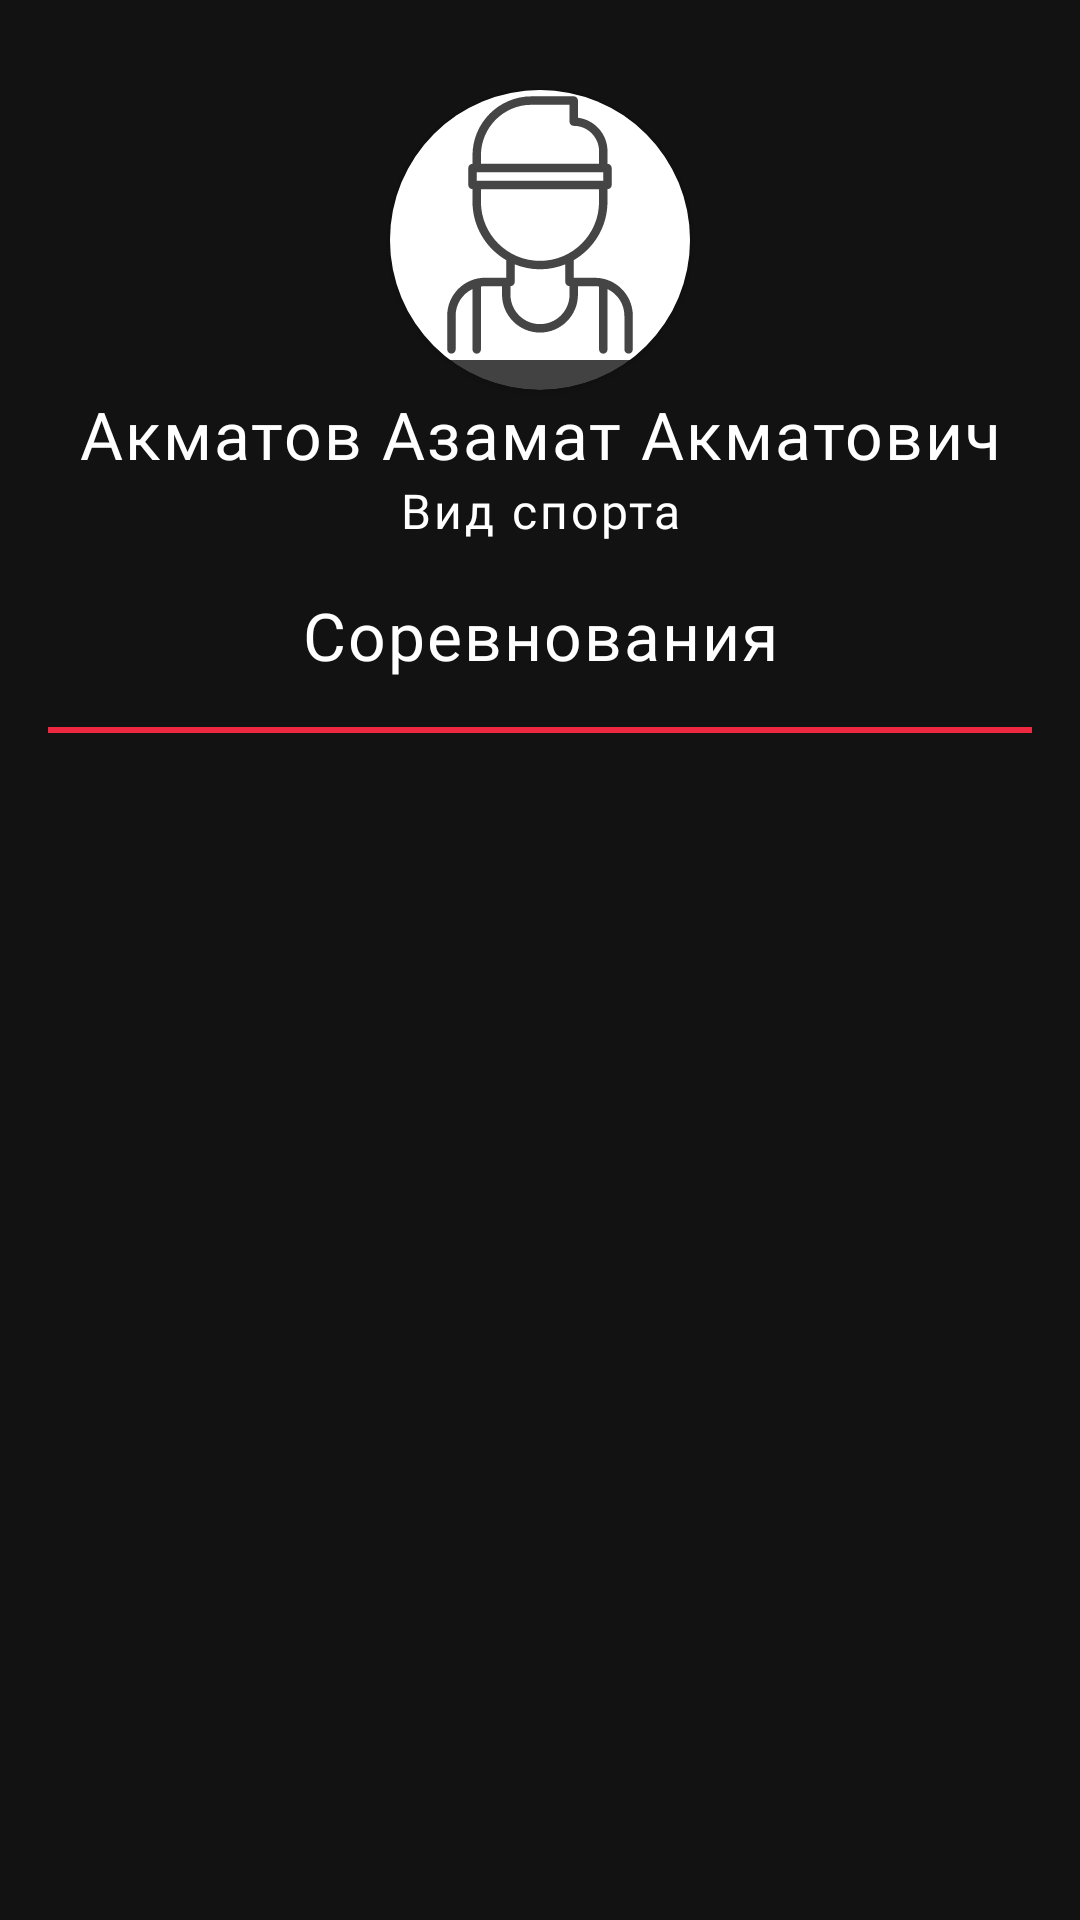

Named icons in this screenshot (1080x1920) and their centers, [x,y]:
user: [540,225]
